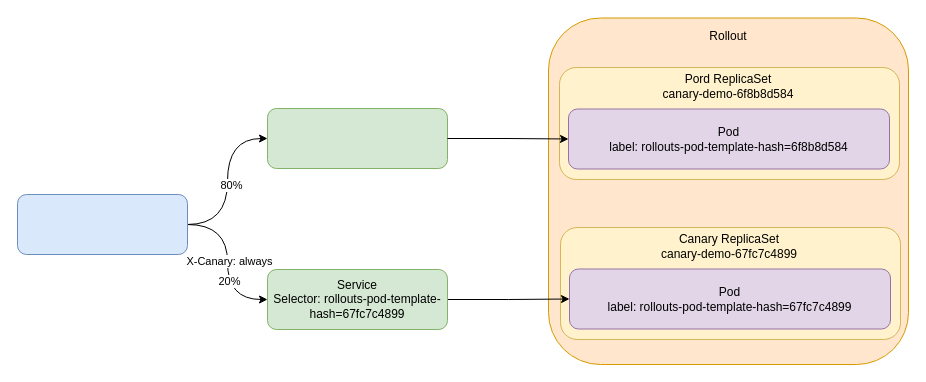
This 926x382 diagram has some shape labels left out. The box of each missing label's shape, as (x1, y1, x2, y2) in pixels:
Ingress-Nginx: (16, 194, 188, 254)
Service Selector: rollouts-pod-template-hash=6f8b8d584: (266, 108, 448, 168)
